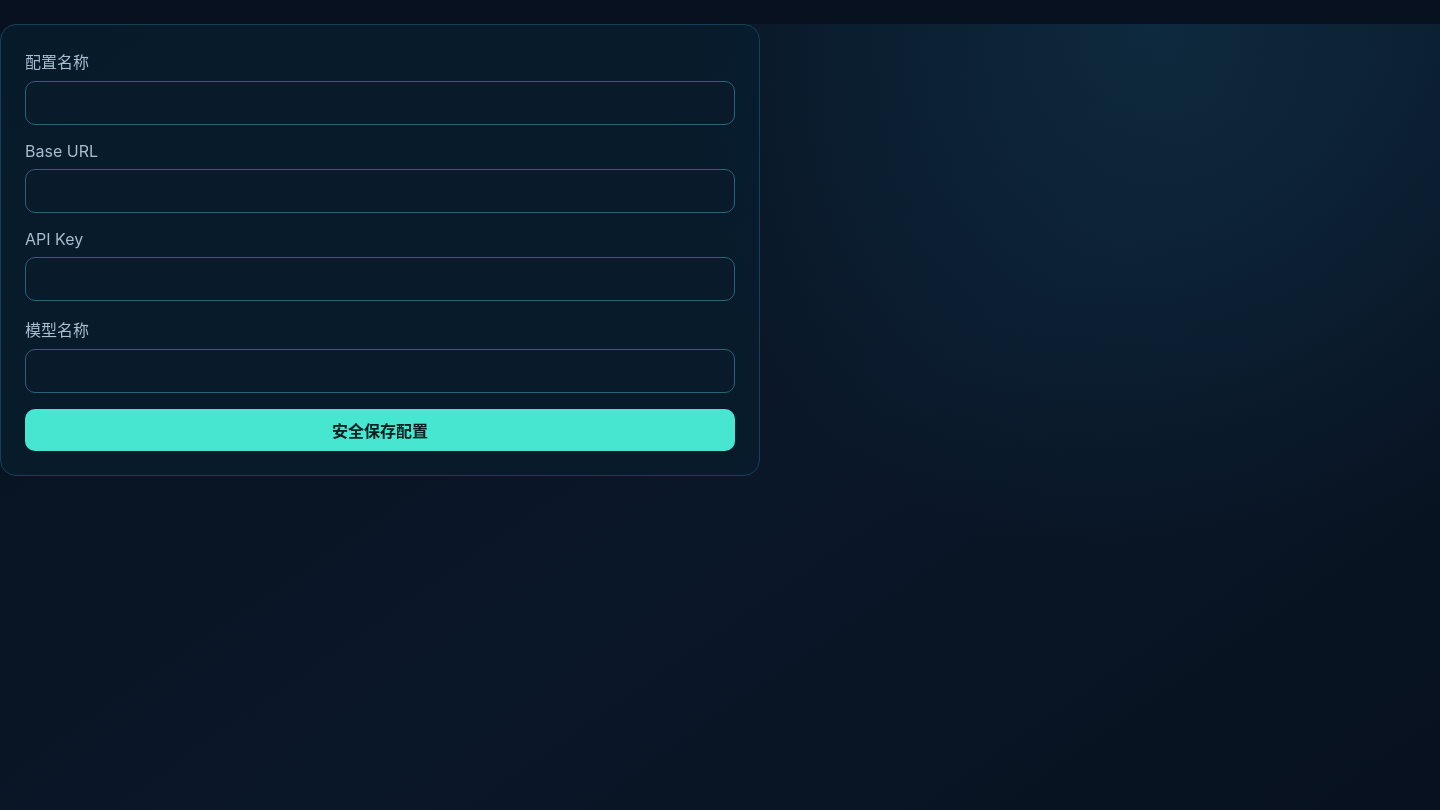
Test: LLM settings › saves a secret profile without showing the key again and tests it
This screenshot has width=1440, height=810.
In the field labelled "配置名称": coordinates (380, 103) [25,81,735,125], type "兼容接口"
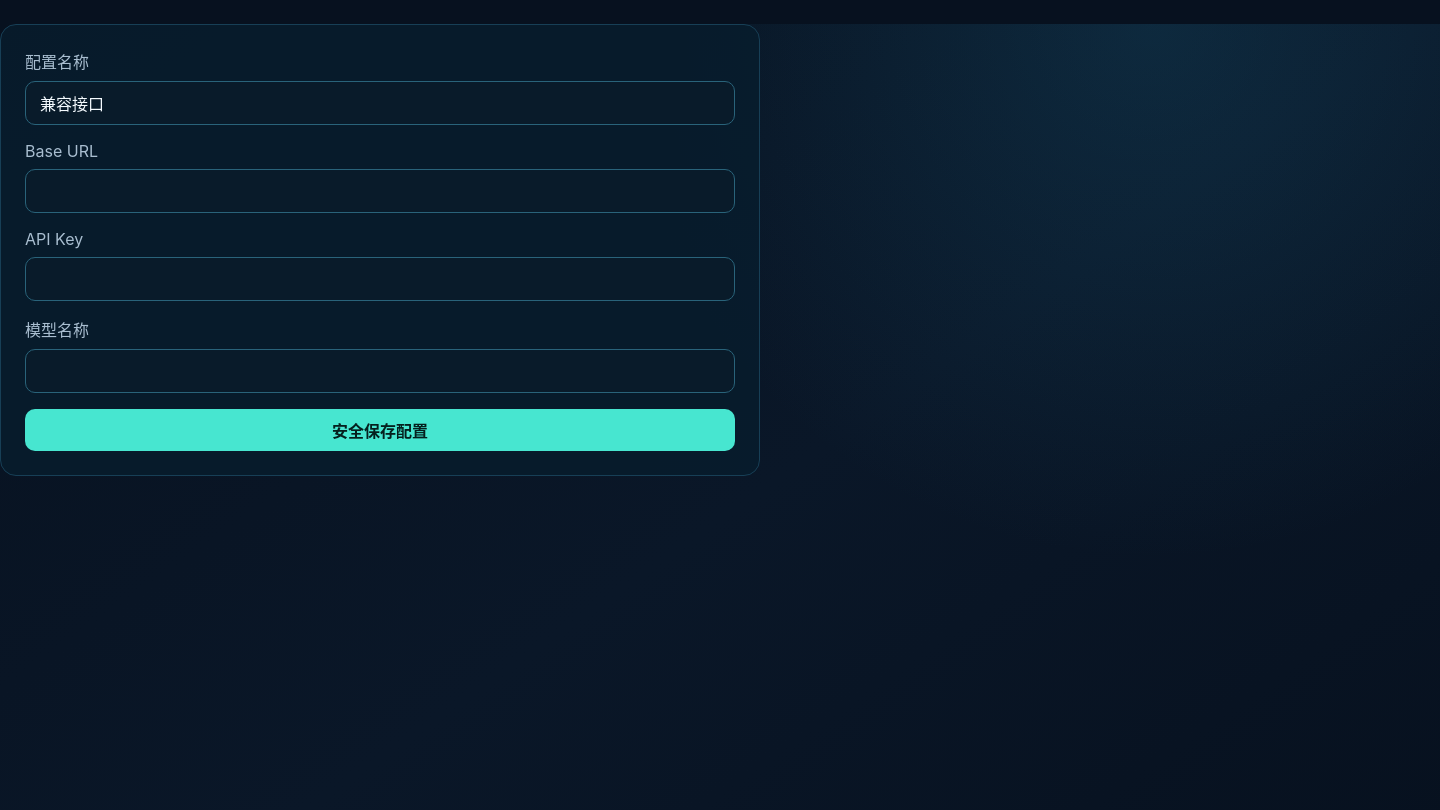
In the field labelled "Base URL": coordinates (380, 191) [25,169,735,213], type "https://llm.example.test/v1"
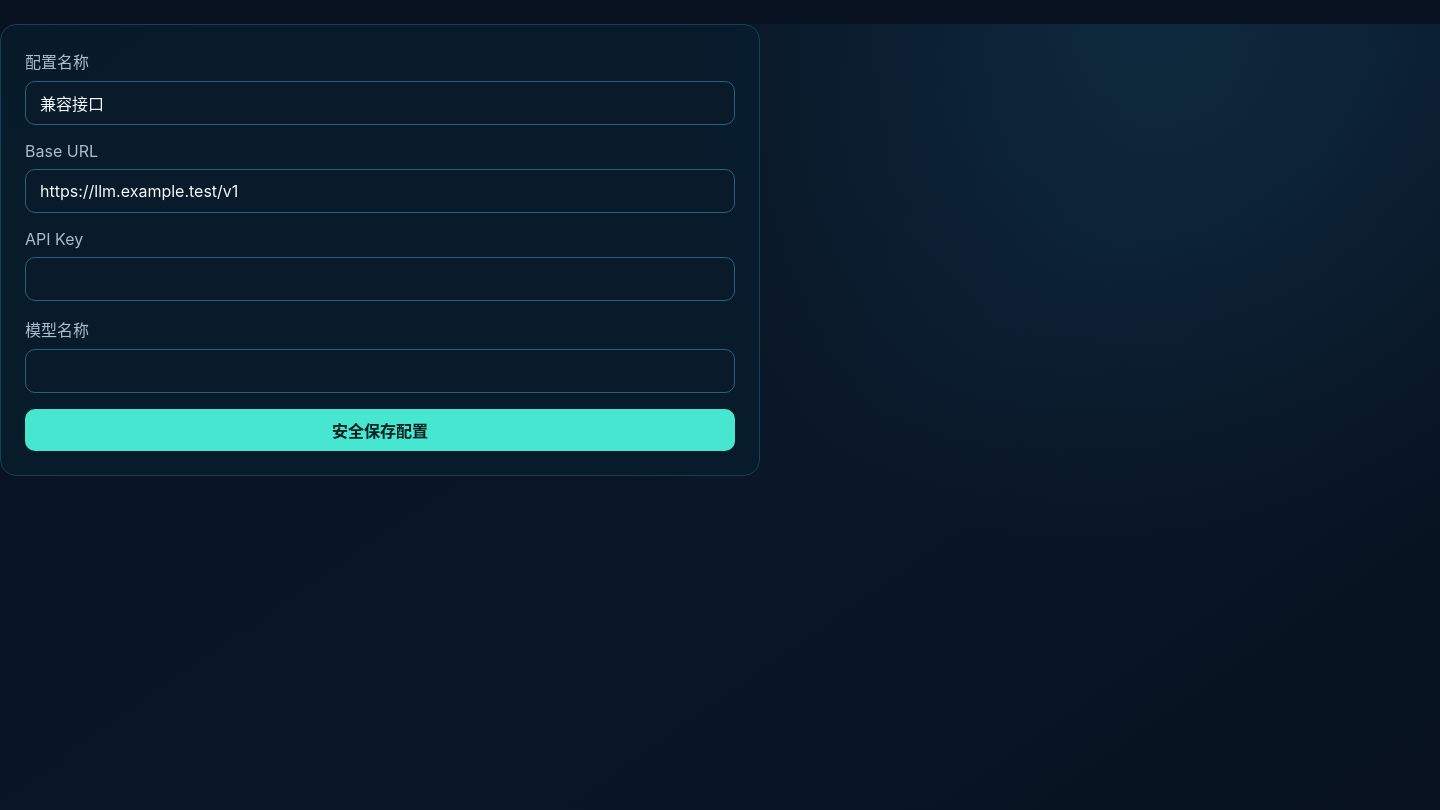
In the password field labelled "API Key": coordinates (380, 279) [25,257,735,301], type "sk-ui-secret"
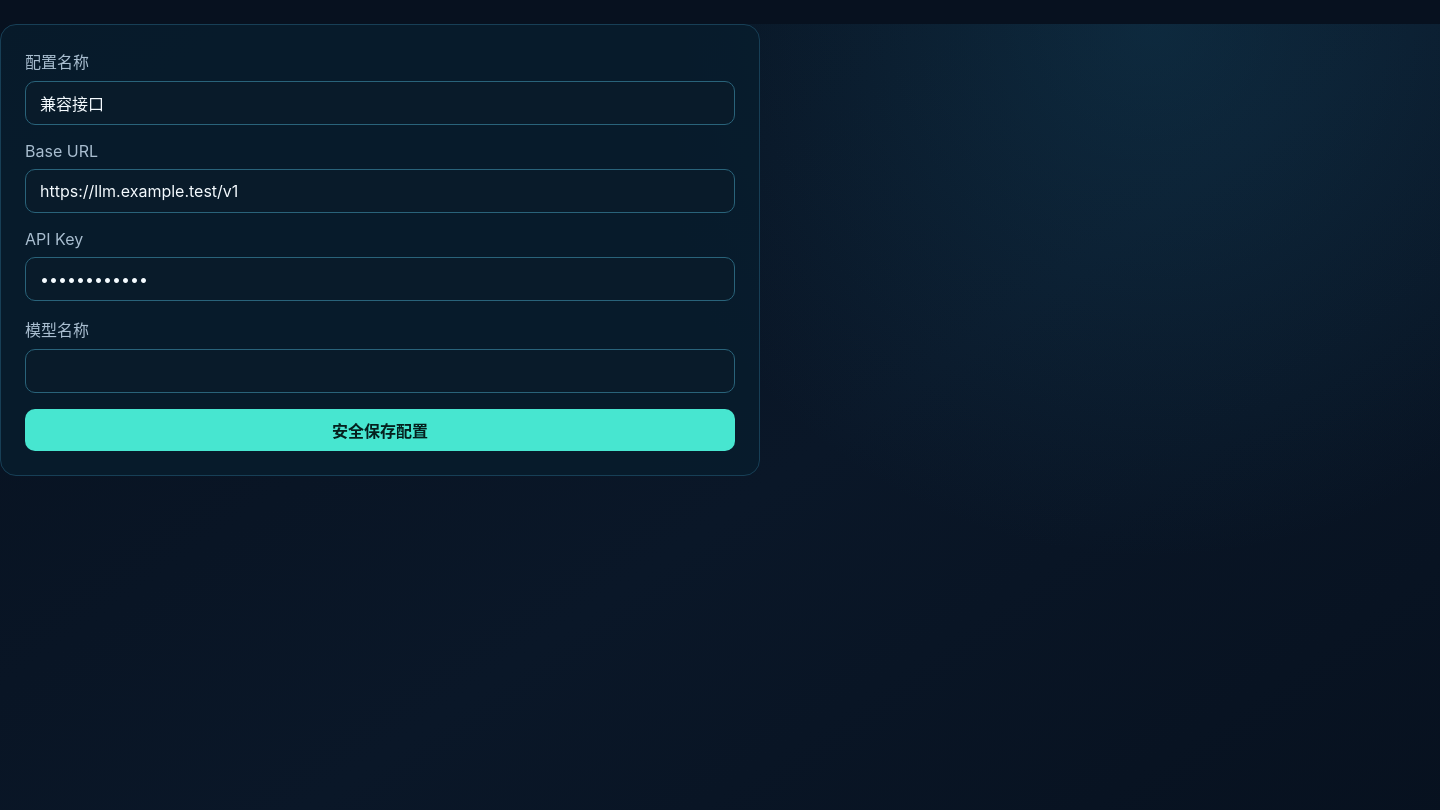
In the field labelled "模型名称": coordinates (380, 371) [25,349,735,393], type "compatible-model"
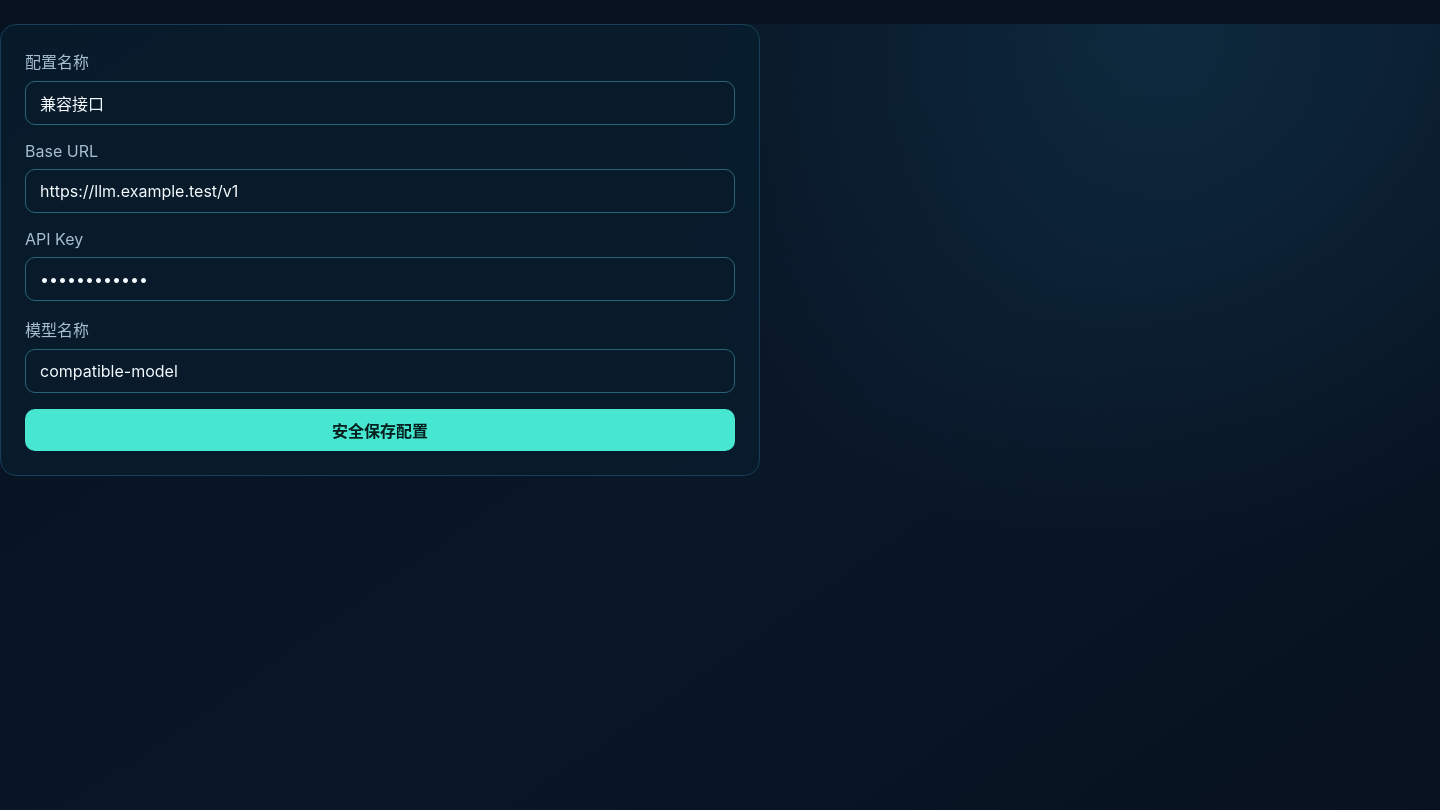
Click the button "安全保存配置": coordinates (380, 430) [25,409,735,451]
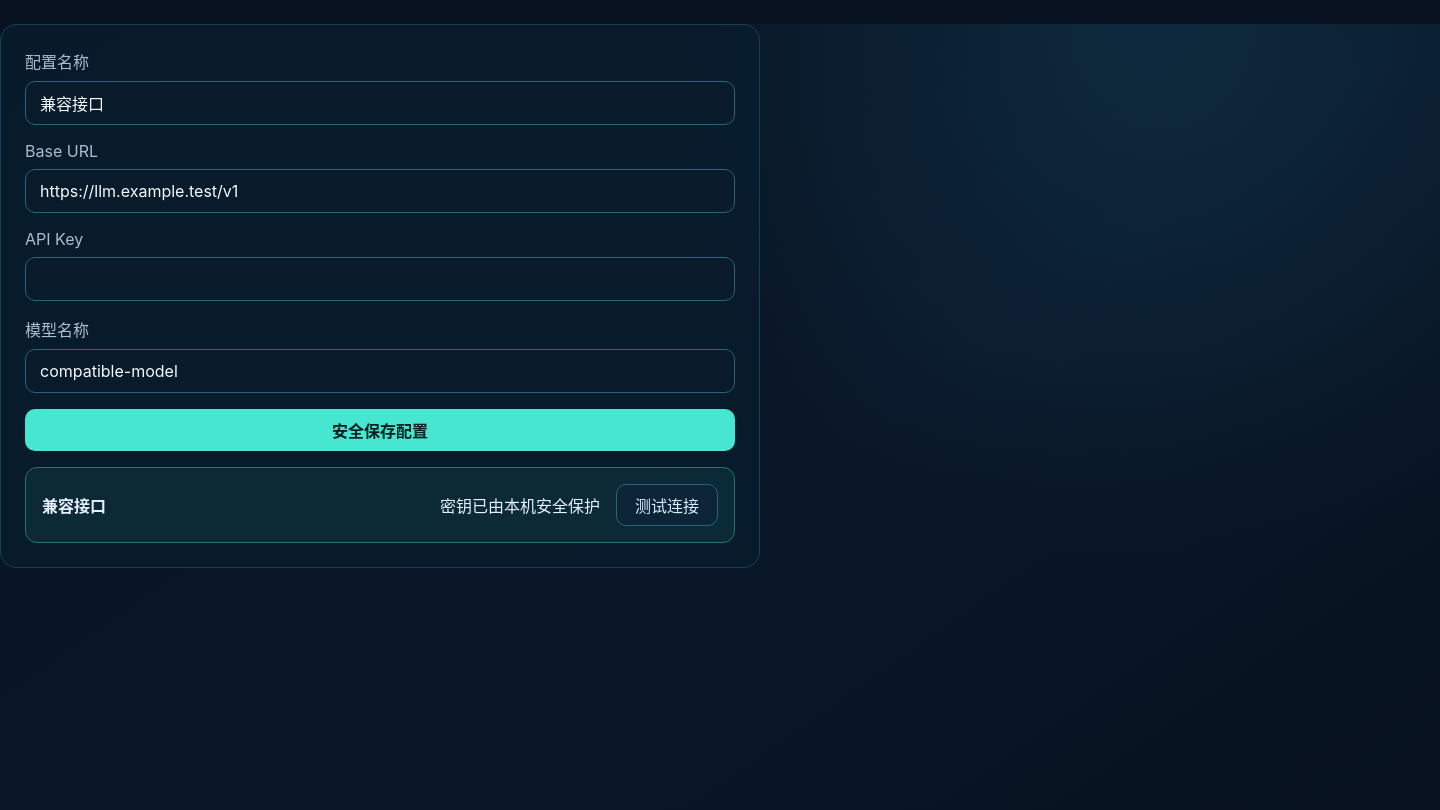
Now the text "密钥已由本机安全保护" is shown, box [440,493,600,517]
Now the password field labelled "API Key" is empty, box [25,257,735,301]
Click the button "测试连接": coordinates (667, 505) [616,484,718,526]
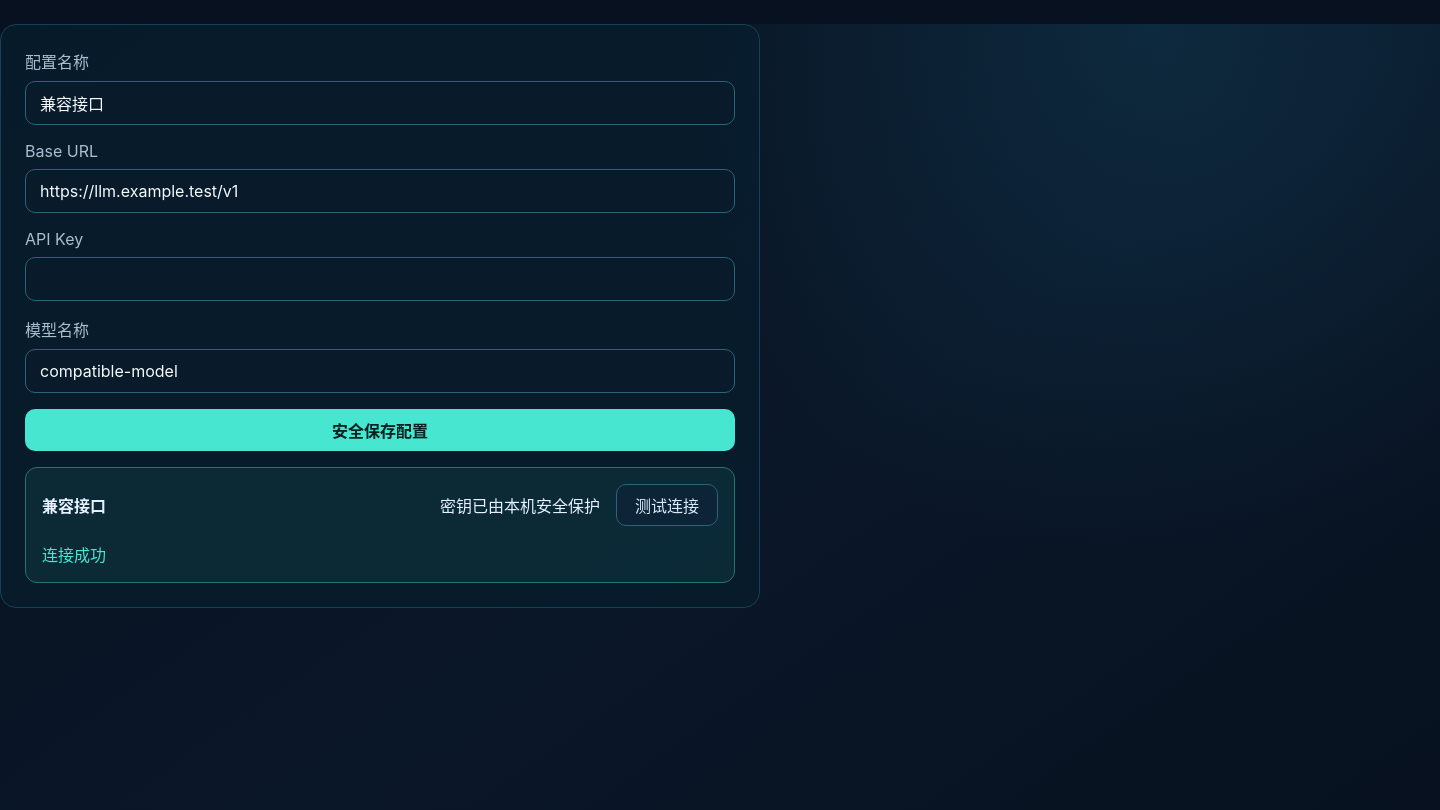
Now the text "连接成功" is shown, box [42,545,106,565]
